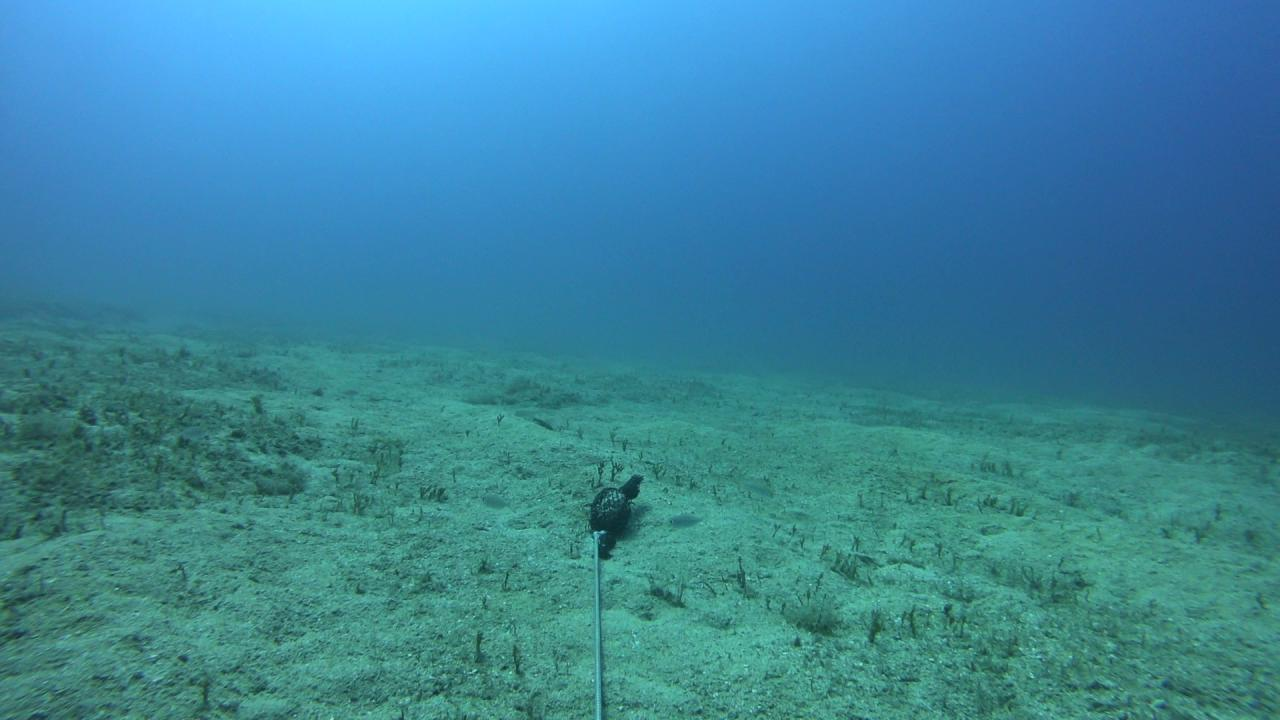pagellus: (478, 491, 514, 513), (666, 511, 706, 527)
